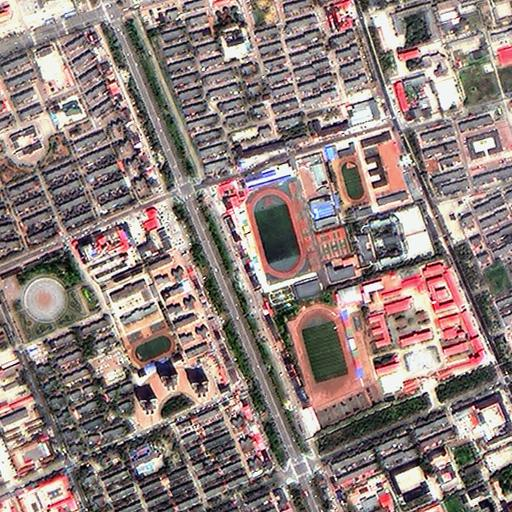school: (272, 260, 498, 432), (217, 149, 366, 310), (322, 121, 420, 214), (104, 269, 181, 373)
